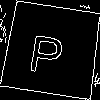P: (26, 24, 68, 76)
